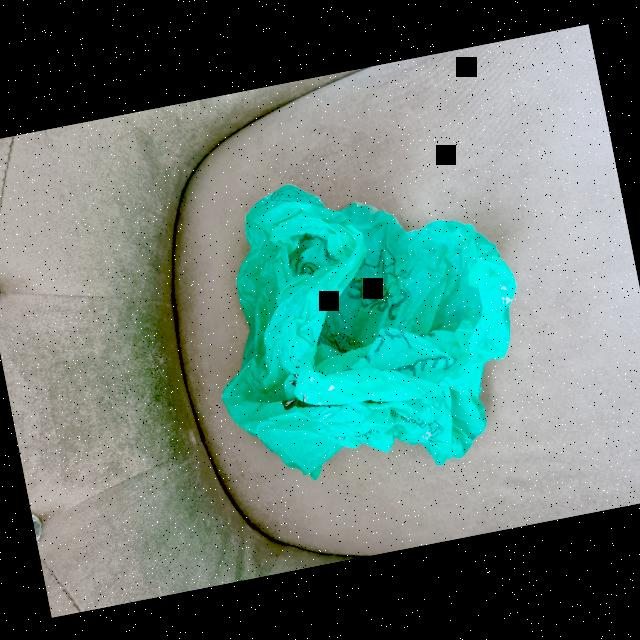plastic_bag: (183, 146, 546, 500)
